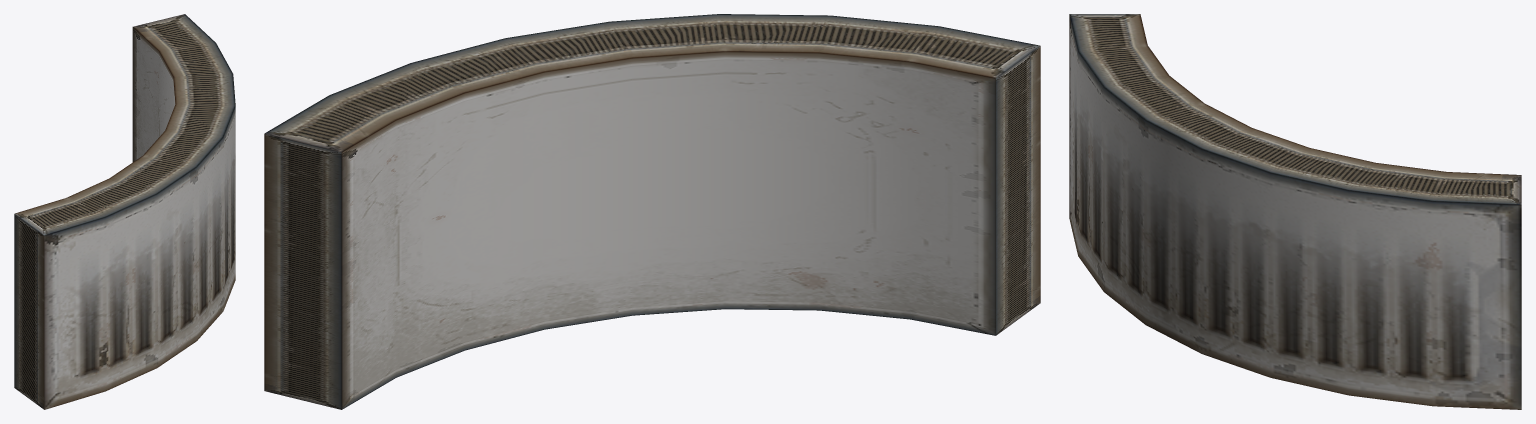
Rendered from scifi_wall_curve1_half_1.FBX.
3 renders of one model, left to right at view 1: azimuth 30°, elevation 25°; view 2: azimuth 150°, elevation 25°; view 3: azimuth 270°, elevation 25°, orthographic. The views are drawn at different scales.
Parts seen in each view (by area): view 1: half011; view 2: half011; view 3: half011.
Part boxes in pixels (x1,y1,x2,y2): half011: [14, 14, 235, 409]; half011: [264, 14, 1040, 409]; half011: [1069, 14, 1521, 409].
Size of the model in its own units: 254 by 127 by 254.
